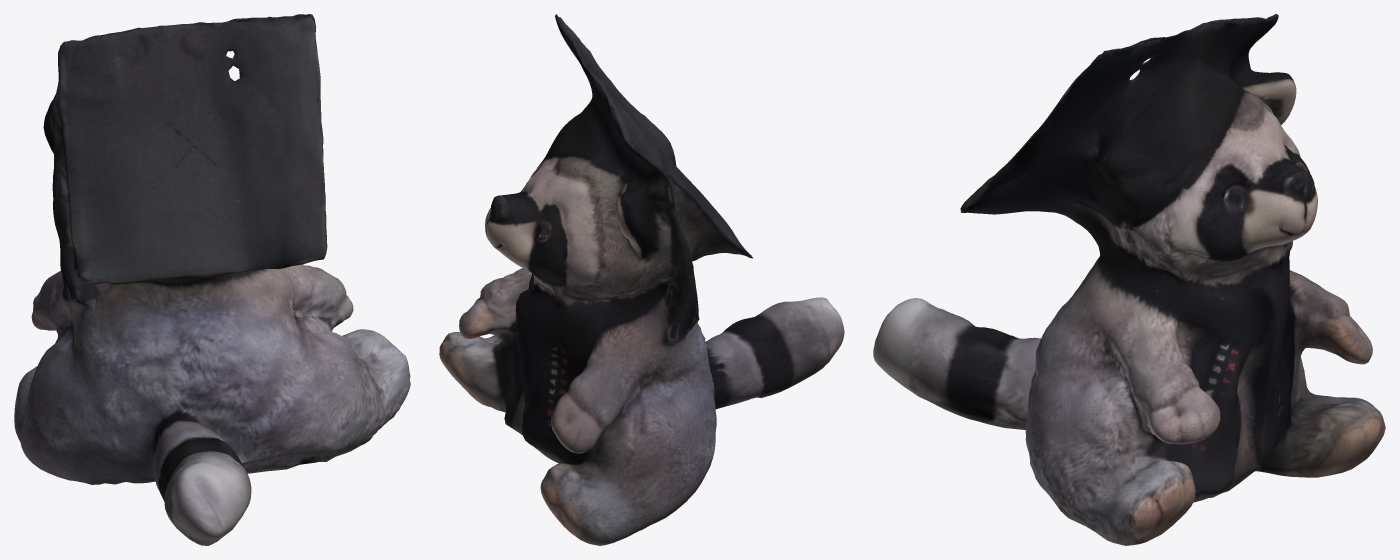
Rendered from kunibert.gltf.
3 views of the same model, side by side, from view 1: azimuth 30°, elevation 25°; view 2: azimuth 150°, elevation 25°; view 3: azimuth 270°, elevation 25° (orthographic). The views are drawn at different scales.
Parts seen in each view (by area): view 1: kunibert; view 2: kunibert; view 3: kunibert.
Boxes of the visible parts, x1,y1,x2,y2 form: kunibert: (14, 14, 410, 545); kunibert: (439, 14, 844, 545); kunibert: (873, 14, 1385, 545).
Size of the model in its own units: 0.4902 by 0.6593 by 0.6117.
1 material, 1 textured.
